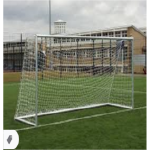goals: (14, 33, 136, 125)
